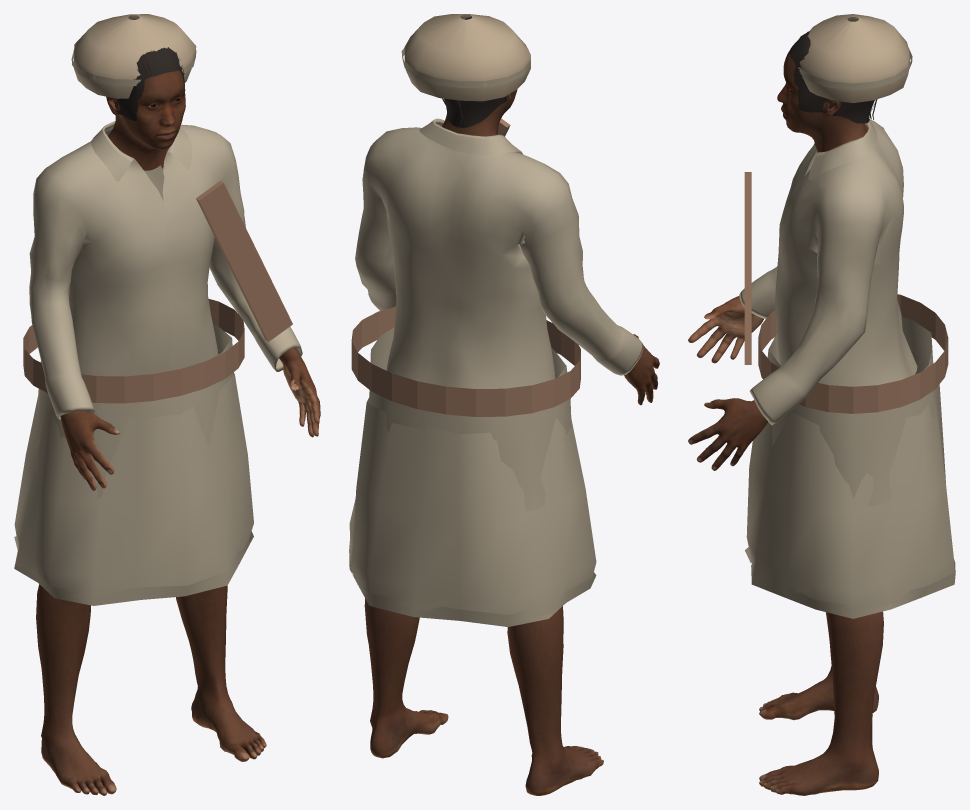
Rendered from daroga.glb.
3 views of the same model, side by side, from view 1: azimuth 30°, elevation 25°; view 2: azimuth 150°, elevation 25°; view 3: azimuth 270°, elevation 25° (orthographic). The views are drawn at different scales.
Parts seen in each view (by area): view 1: Fitted cotton upper base_static_preview, Knee length wrapped dhoti_static_preview, village_farmer_MakeHuman_body_static_preview, Soft cotton head wrap_static_preview, Daroga waist sash, Daroga shoulder cloth, Kurta loose lower panel_static_preview, Dhoti woven border_static_preview, Farmer_hair_static_preview, Head wrap fold_static_preview; view 2: Fitted cotton upper base_static_preview, Knee length wrapped dhoti_static_preview, village_farmer_MakeHuman_body_static_preview, Daroga waist sash, Soft cotton head wrap_static_preview, Kurta loose lower panel_static_preview, Dhoti woven border_static_preview, Farmer_hair_static_preview, Head wrap fold_static_preview; view 3: Fitted cotton upper base_static_preview, Knee length wrapped dhoti_static_preview, village_farmer_MakeHuman_body_static_preview, Kurta loose lower panel_static_preview, Soft cotton head wrap_static_preview, Daroga waist sash, Dhoti woven border_static_preview, Farmer_hair_static_preview, Daroga shoulder cloth, Head wrap fold_static_preview.
Part boxes in pixels (x1,y1,x2,y2): Fitted cotton upper base_static_preview: [29, 121, 302, 421]; Knee length wrapped dhoti_static_preview: [14, 373, 253, 599]; village_farmer_MakeHuman_body_static_preview: [36, 70, 320, 795]; Soft cotton head wrap_static_preview: [73, 14, 196, 98]; Daroga waist sash: [23, 299, 244, 403]; Daroga shoulder cloth: [196, 180, 292, 341]; Kurta loose lower panel_static_preview: [31, 324, 233, 498]; Dhoti woven border_static_preview: [14, 531, 253, 605]; Farmer_hair_static_preview: [114, 47, 185, 120]; Head wrap fold_static_preview: [71, 49, 196, 85]; Fitted cotton upper base_static_preview: [355, 118, 643, 388]; Knee length wrapped dhoti_static_preview: [349, 397, 596, 619]; village_farmer_MakeHuman_body_static_preview: [364, 89, 659, 795]; Daroga waist sash: [351, 306, 580, 416]; Soft cotton head wrap_static_preview: [404, 14, 530, 101]; Kurta loose lower panel_static_preview: [369, 327, 571, 511]; Dhoti woven border_static_preview: [349, 541, 596, 626]; Farmer_hair_static_preview: [442, 16, 514, 127]; Head wrap fold_static_preview: [401, 47, 530, 87]; Fitted cotton upper base_static_preview: [739, 119, 917, 425]; Knee length wrapped dhoti_static_preview: [746, 354, 953, 609]; village_farmer_MakeHuman_body_static_preview: [688, 49, 883, 795]; Kurta loose lower panel_static_preview: [767, 317, 934, 506]; Soft cotton head wrap_static_preview: [799, 14, 909, 103]; Daroga waist sash: [758, 294, 948, 413]; Dhoti woven border_static_preview: [745, 547, 955, 618]; Farmer_hair_static_preview: [790, 31, 877, 123]; Daroga shoulder cloth: [744, 172, 751, 364]; Head wrap fold_static_preview: [798, 47, 912, 89].
Size of the model in its own units: 0.5892 by 1.67 by 0.5552.
Materials: 8 (2 with a texture image).
